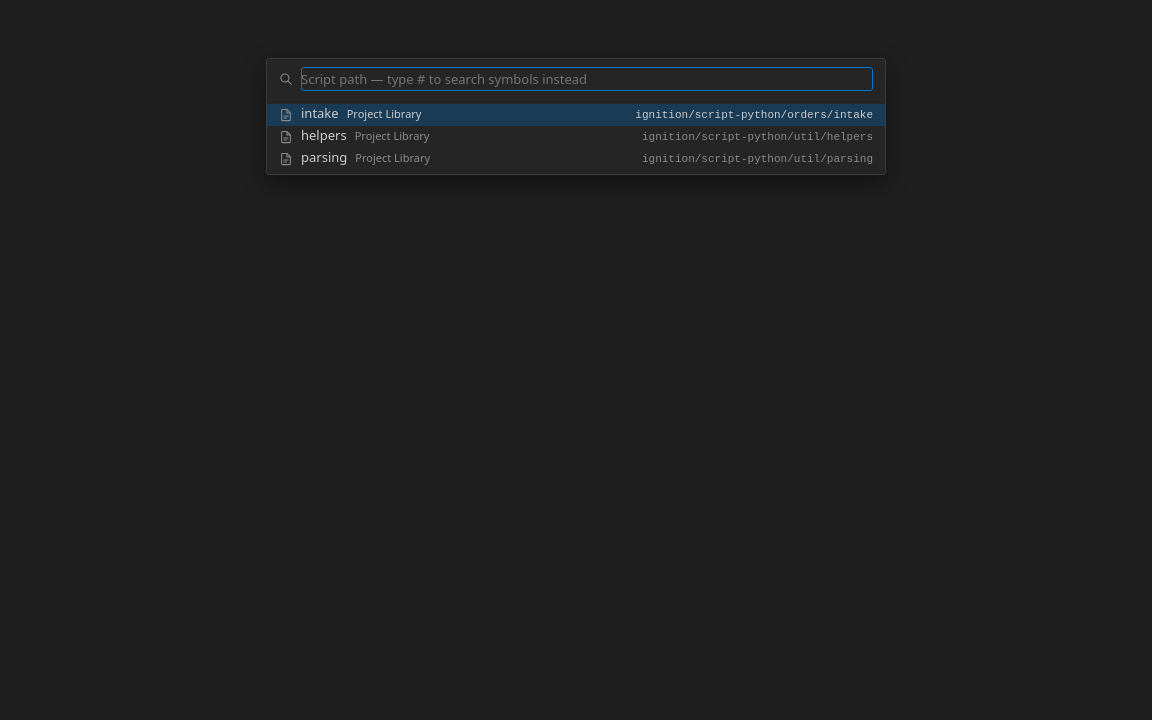
QuickOpen — scripts › filters as you type
The image size is (1152, 720).
In the field: (587, 79) [301,67,873,91], type "intake"
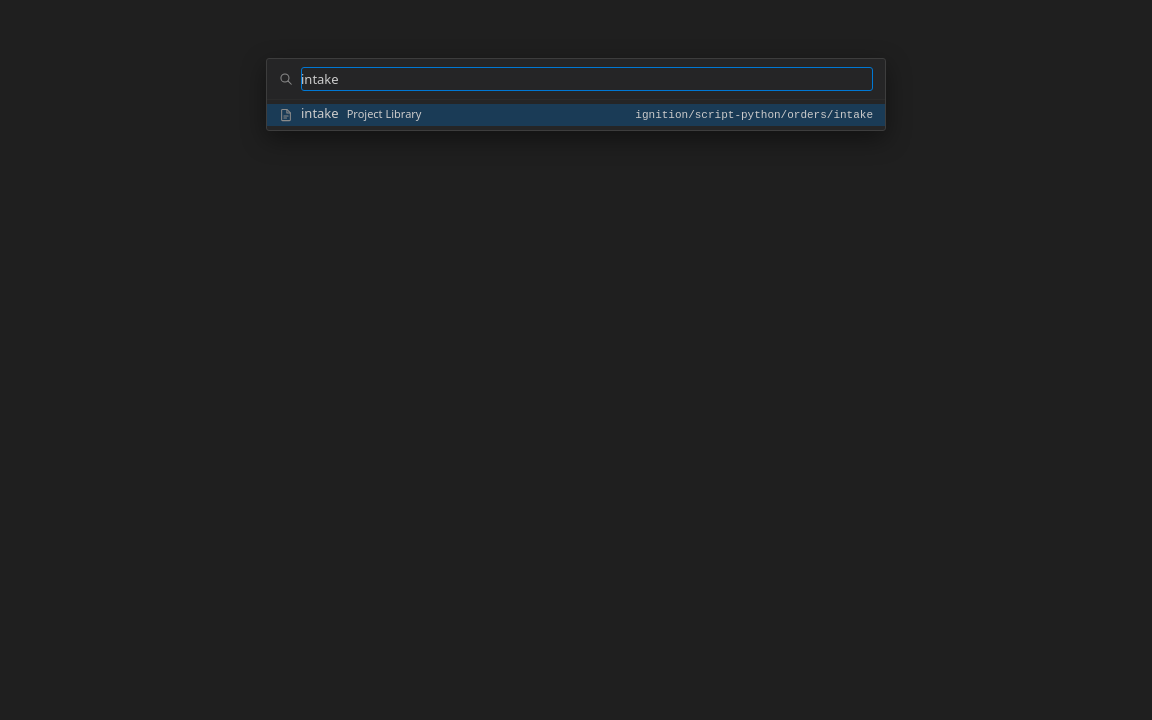
Check: the option shows "intake", box [267,104,885,126]
Check: the number of options is 1, box [267,104,885,126]
